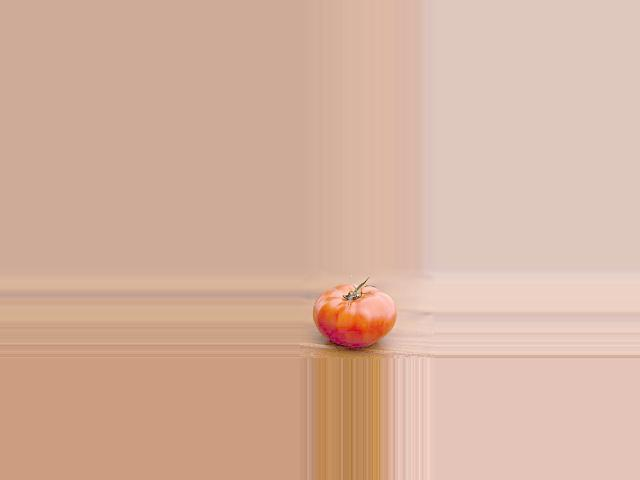tomato: (313, 284, 397, 347)
